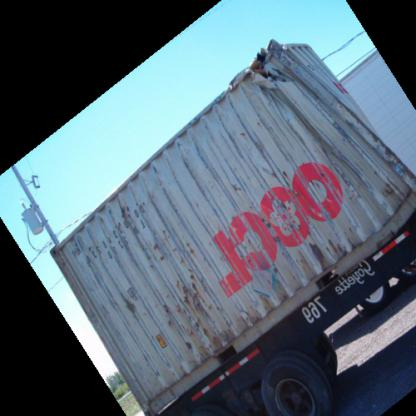Damage: (82, 147, 312, 359), (227, 32, 352, 150)
